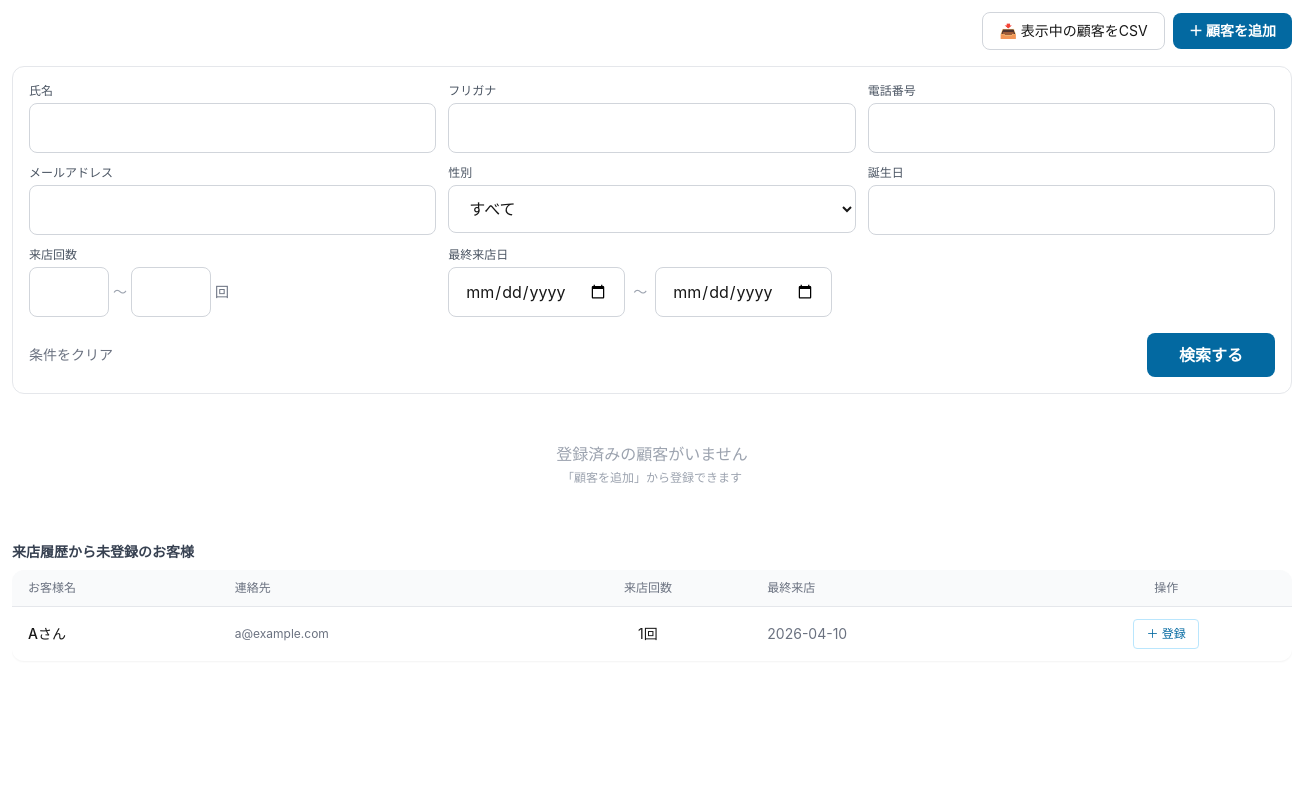
it: 表示する顧客がいなければ CSV ボタンは出さない
Type "該当なし" into the field named "氏名" at (233, 128), box [29,103,436,153]
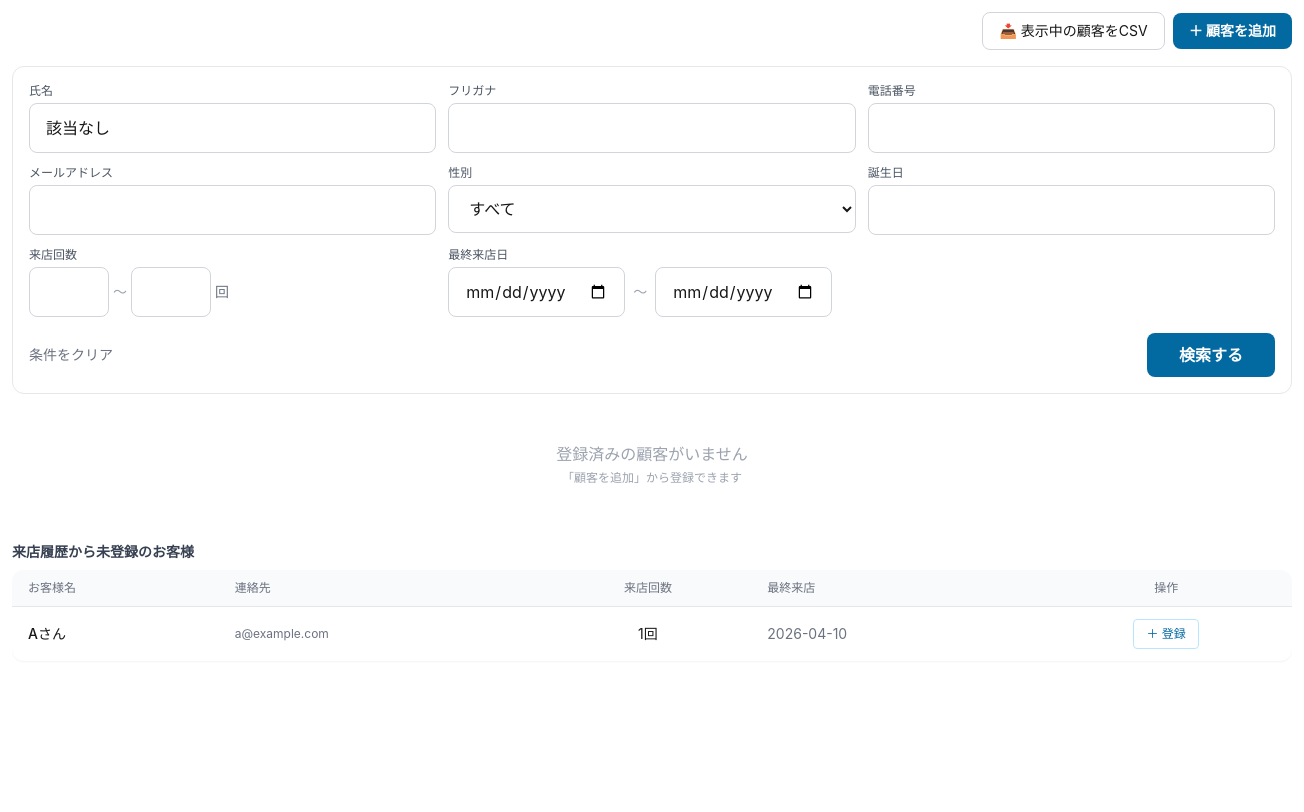
Click the button "検索する" at (1211, 355), box [1147,333,1275,377]
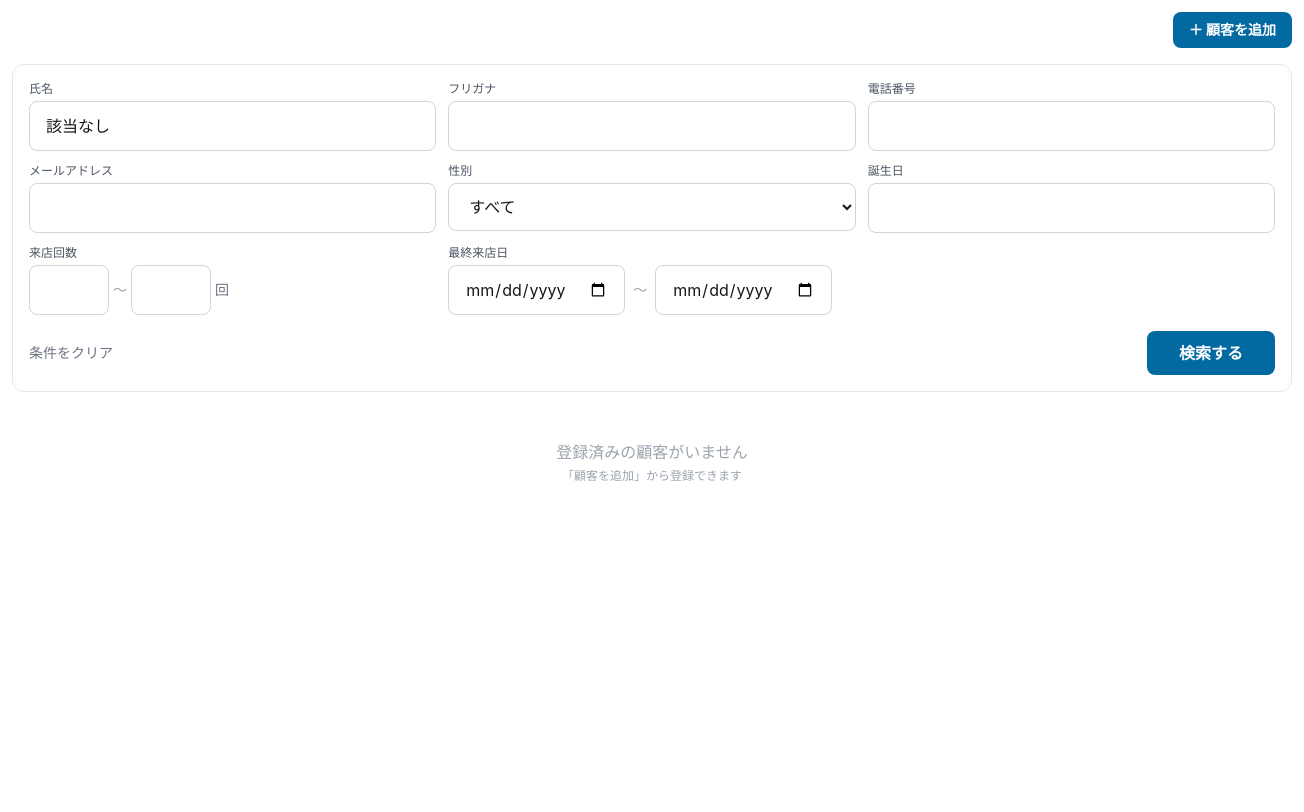
Expected: the link "CSV" is gone
